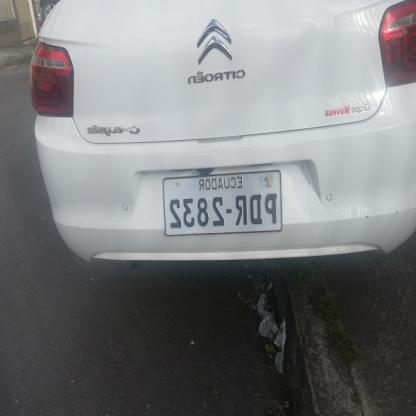Placa: (158, 165, 285, 242)
